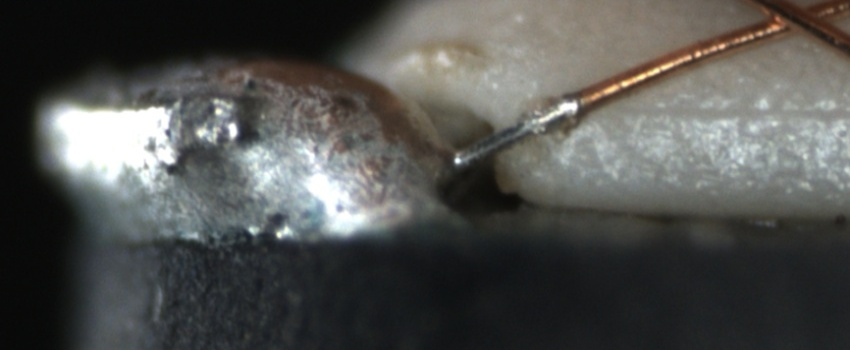CL: (734, 1, 845, 43)
DL: (612, 78, 850, 143)
TS: (456, 93, 582, 168)
TTCW: (452, 83, 618, 172)
